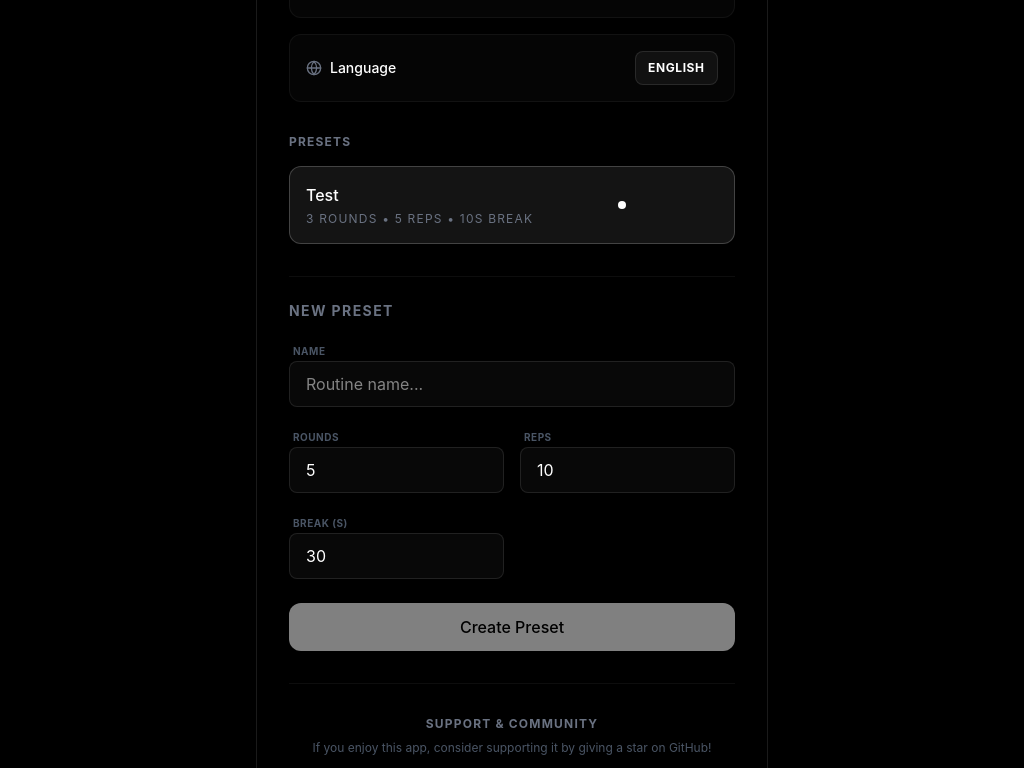
Test: PresetManager Component › allows adding a new preset
The image size is (1024, 768).
(page scrolled)
Type "New Session" into the field labelled "Name" at [512, 384], box x1=289 y1=361 x2=735 y2=407
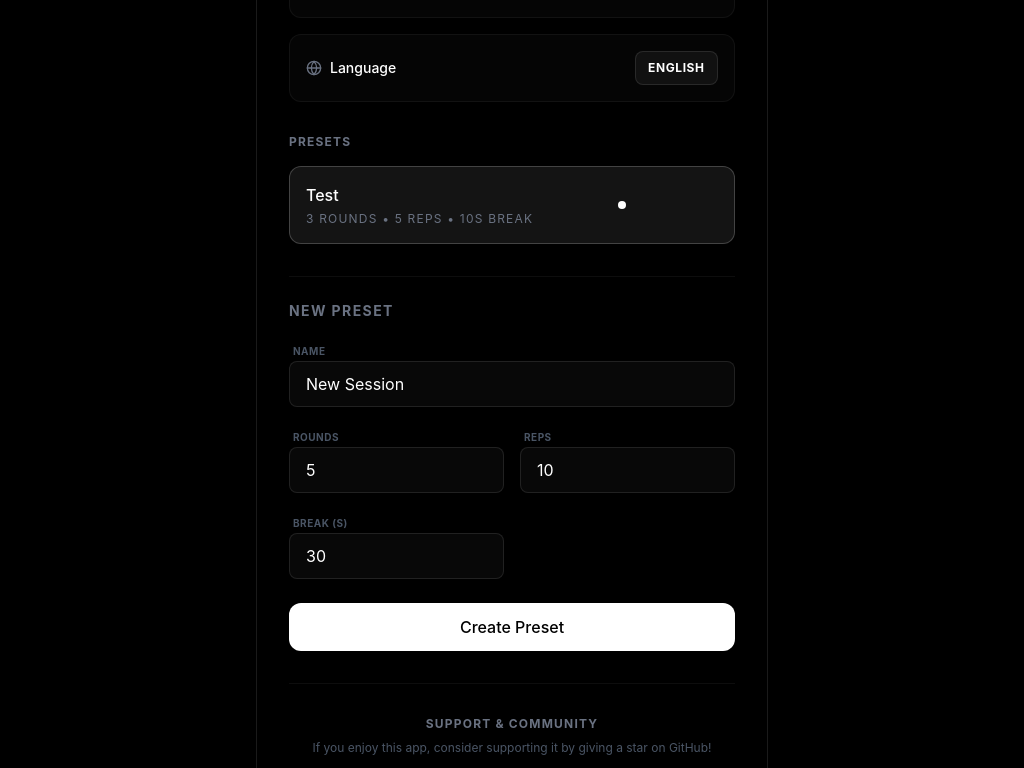
Click the button "Create Preset" at [512, 627], box x1=289 y1=603 x2=735 y2=651
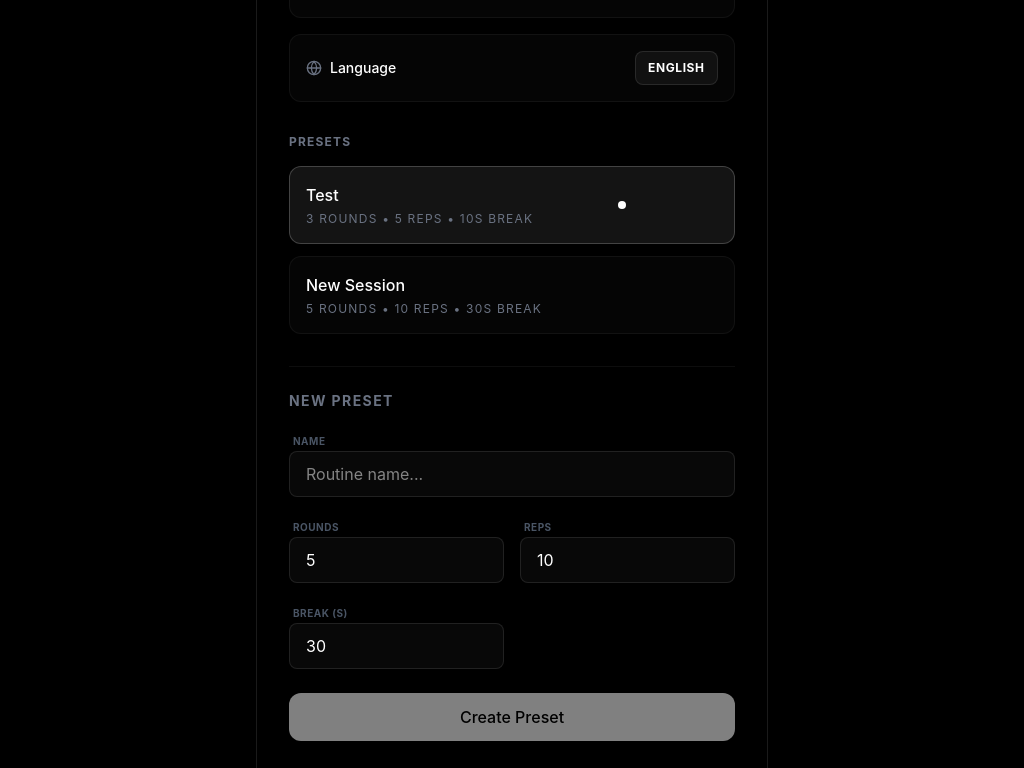
expect the text "New Session" is shown: met, box x1=306 y1=275 x2=405 y2=295
